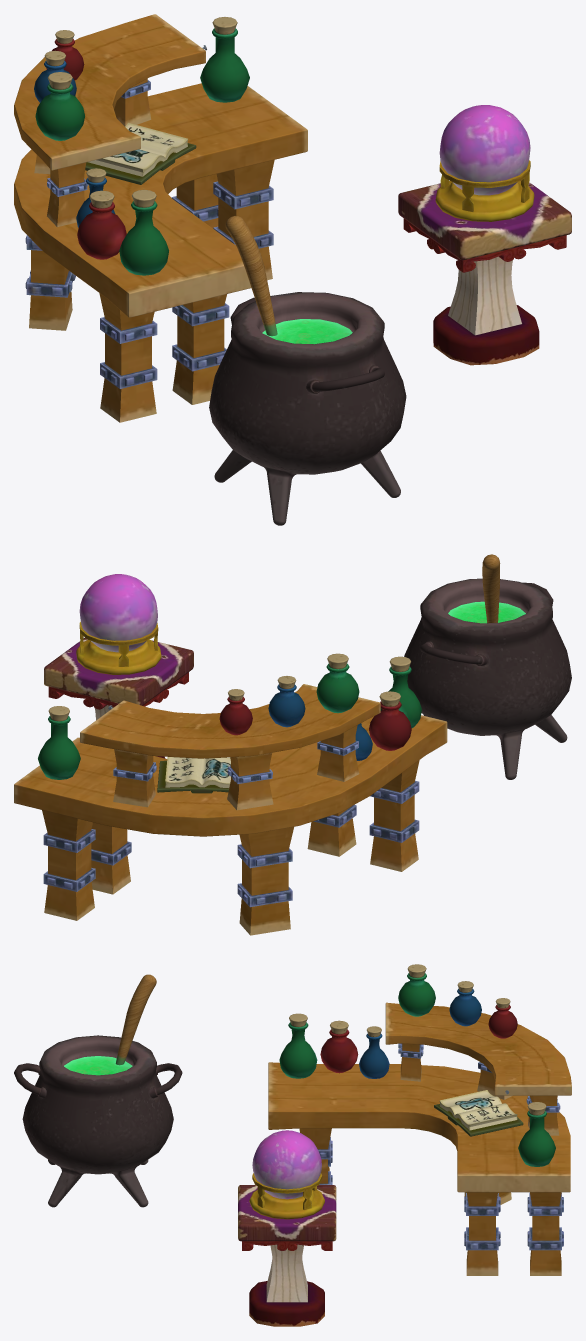
Rendered from PRP_PotionTable.glb.
3 renders of one model, top to bottom at view 1: azimuth 30°, elevation 25°; view 2: azimuth 150°, elevation 25°; view 3: azimuth 270°, elevation 25°, orthographic. The views are drawn at different scales.
Parts seen in each view (by area): view 1: AlchemyTable, Cauldron, CrystalBallTable, CrystalBall, CrystalBallStand, Book, TallPotion1, TallPotion3, Potion1, Potion4, Potion2, Potion3 (+1 smaller); view 2: AlchemyTable, Cauldron, CrystalBallTable, CrystalBall, CrystalBallStand, Book, TallPotion3, Potion1, Potion4, Potion2, TallPotion1, Potion3; view 3: AlchemyTable, Cauldron, CrystalBallTable, CrystalBall, Book, CrystalBallStand, TallPotion1, TallPotion3, Potion1, Potion4, TallPotion2, Potion2 (+1 smaller).
Boxes of the visible parts, x1,y1,x2,y2 form: AlchemyTable: [14, 14, 307, 422]; Cauldron: [209, 215, 406, 525]; CrystalBallTable: [398, 182, 571, 365]; CrystalBall: [439, 105, 530, 195]; CrystalBallStand: [435, 160, 534, 221]; Book: [85, 123, 196, 184]; TallPotion1: [119, 189, 168, 275]; TallPotion3: [200, 17, 249, 102]; Potion1: [35, 72, 84, 140]; Potion4: [77, 190, 126, 259]; Potion2: [34, 50, 76, 102]; Potion3: [46, 30, 84, 80]; AlchemyTable: [14, 684, 447, 935]; Cauldron: [404, 554, 571, 779]; CrystalBallTable: [44, 637, 193, 758]; CrystalBall: [79, 574, 157, 652]; CrystalBallStand: [76, 621, 161, 674]; Book: [157, 757, 230, 793]; TallPotion3: [38, 706, 80, 779]; Potion1: [316, 653, 359, 713]; Potion4: [369, 691, 411, 750]; Potion2: [268, 676, 305, 727]; TallPotion1: [380, 656, 421, 727]; Potion3: [219, 689, 252, 735]; AlchemyTable: [268, 1002, 571, 1275]; Cauldron: [14, 974, 182, 1207]; CrystalBallTable: [238, 1185, 336, 1326]; CrystalBall: [252, 1130, 321, 1199]; Book: [434, 1090, 523, 1136]; CrystalBallStand: [249, 1173, 324, 1219]; TallPotion1: [279, 1013, 317, 1078]; TallPotion3: [518, 1102, 555, 1166]; Potion1: [398, 964, 435, 1016]; Potion4: [320, 1020, 358, 1073]; TallPotion2: [359, 1026, 389, 1078]; Potion2: [449, 981, 481, 1026].
Bounding box in the file's own units: 10.3 × 6.34 × 14.76.
3 materials, 3 textured.
